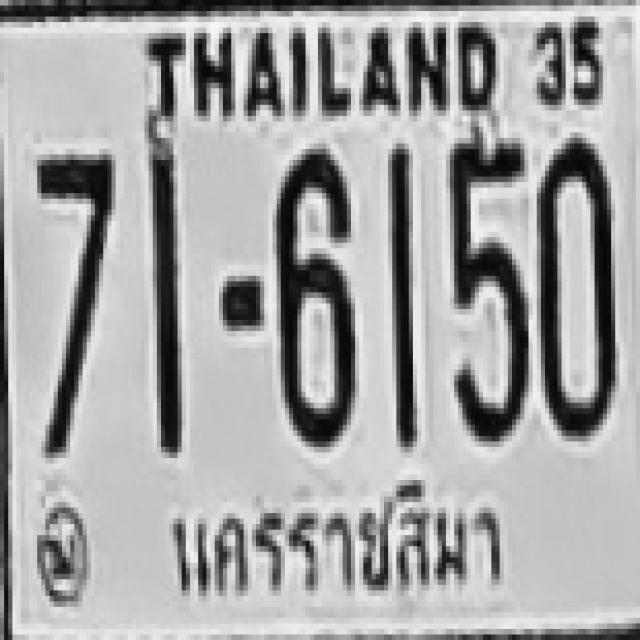0: (535, 132, 613, 436)
1: (386, 140, 411, 406)
6: (272, 144, 351, 442)
7: (33, 152, 112, 422), (33, 149, 112, 370), (33, 152, 112, 345)
NakhonRatchasima: (157, 482, 517, 607)
